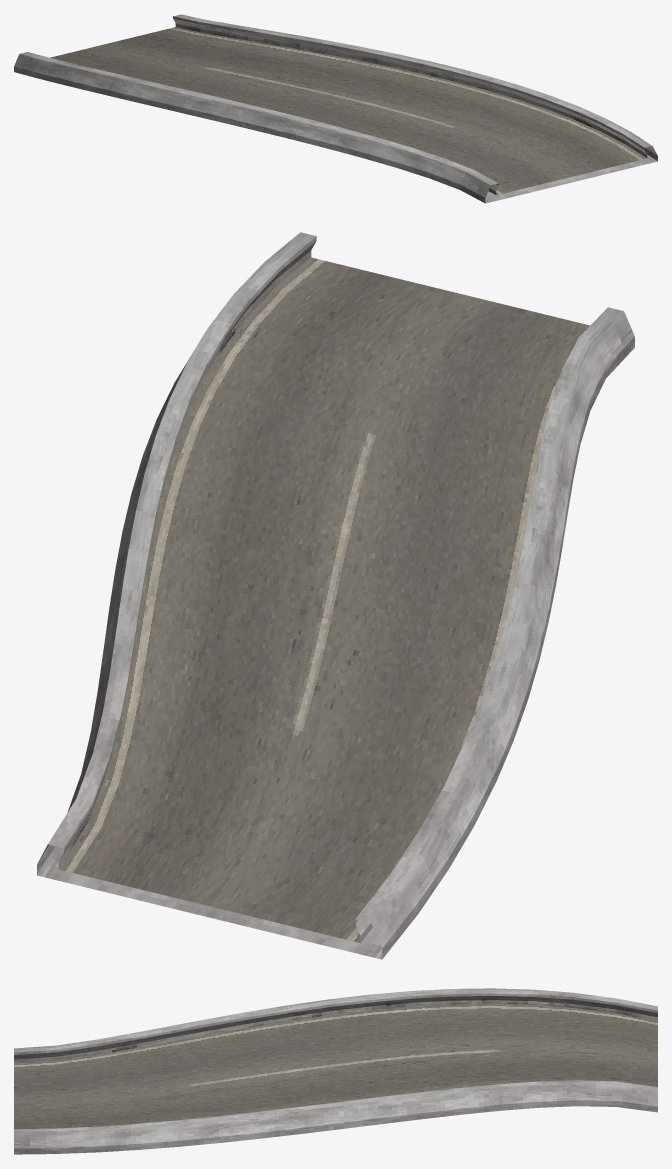
File: chicane-left1x3.glb
3 views of the same model, one above another, from view 1: azimuth 30°, elevation 25°; view 2: azimuth 150°, elevation 25°; view 3: azimuth 270°, elevation 25° (orthographic). The views are drawn at different scales.
Parts seen in each view (by area): view 1: road-Chicane-Flat-BiSlopeDown-Down1-Left1-Size3; view 2: road-Chicane-Flat-BiSlopeDown-Down1-Left1-Size3; view 3: road-Chicane-Flat-BiSlopeDown-Down1-Left1-Size3.
Boxes of the visible parts, bbox=[...] form: road-Chicane-Flat-BiSlopeDown-Down1-Left1-Size3: bbox=[14, 14, 657, 203]; road-Chicane-Flat-BiSlopeDown-Down1-Left1-Size3: bbox=[37, 232, 634, 959]; road-Chicane-Flat-BiSlopeDown-Down1-Left1-Size3: bbox=[14, 988, 657, 1154].
Bounding box in the file's own units: 2 × 0.3472 × 3.
2 materials, 2 textured.
